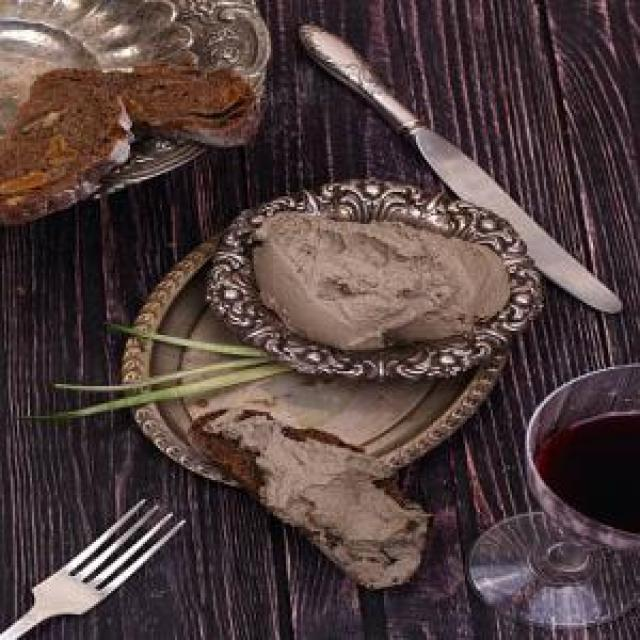knife: (290, 21, 628, 315)
